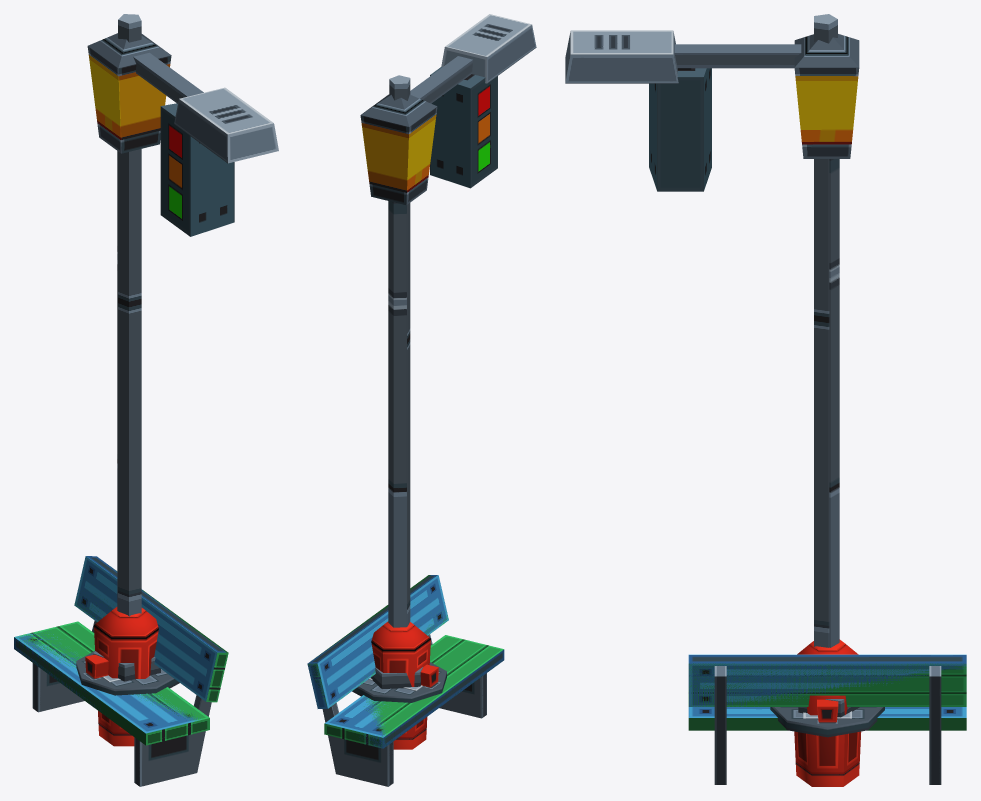
Rendered from road_props_01.fbx.
3 renders of one model, left to right at view 1: azimuth 30°, elevation 25°; view 2: azimuth 150°, elevation 25°; view 3: azimuth 270°, elevation 25°, orthographic. The views are drawn at different scales.
Parts seen in each view (by area): view 1: lamp_street, bench, bench_2, traffic_light, lamp, hydrant, lid; view 2: lamp, bench, traffic_light, lamp_street, bench_2, hydrant, lid; view 3: lamp_street, bench_2, lamp, bench, traffic_light, hydrant, lid.
Part boxes in pixels (x1,y1,x2,y2): lamp_street: (93, 15, 278, 681); bench: (14, 556, 225, 786); bench_2: (14, 565, 228, 786); traffic_light: (93, 14, 234, 656); lamp: (87, 33, 171, 664); hydrant: (85, 607, 158, 746); lid: (76, 651, 179, 695); lamp: (360, 94, 437, 688); bench: (307, 575, 504, 786); traffic_light: (377, 60, 497, 686); lamp_street: (395, 14, 536, 685); bench_2: (308, 575, 503, 776); hydrant: (371, 621, 438, 749); lid: (352, 662, 446, 702); lamp_street: (565, 16, 840, 717); bench_2: (688, 663, 966, 784); lamp: (794, 34, 859, 717); bench: (688, 654, 966, 784); traffic_light: (649, 14, 837, 647); hydrant: (794, 639, 861, 786); lid: (770, 707, 884, 737).
Size of the model in its own units: 1.55 by 11.1 by 5.32.
